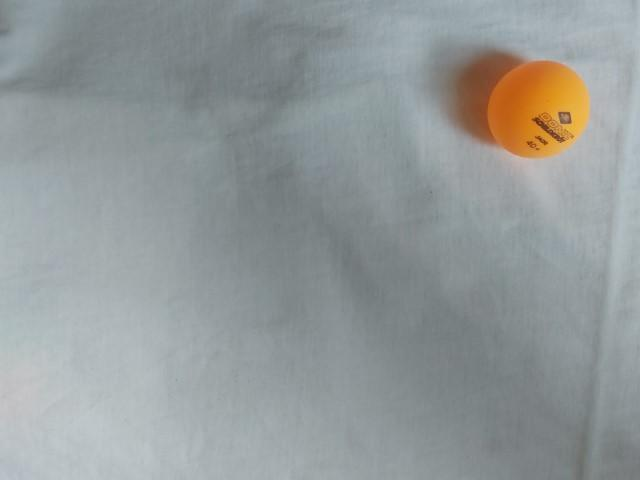oball: (479, 52, 595, 167)
